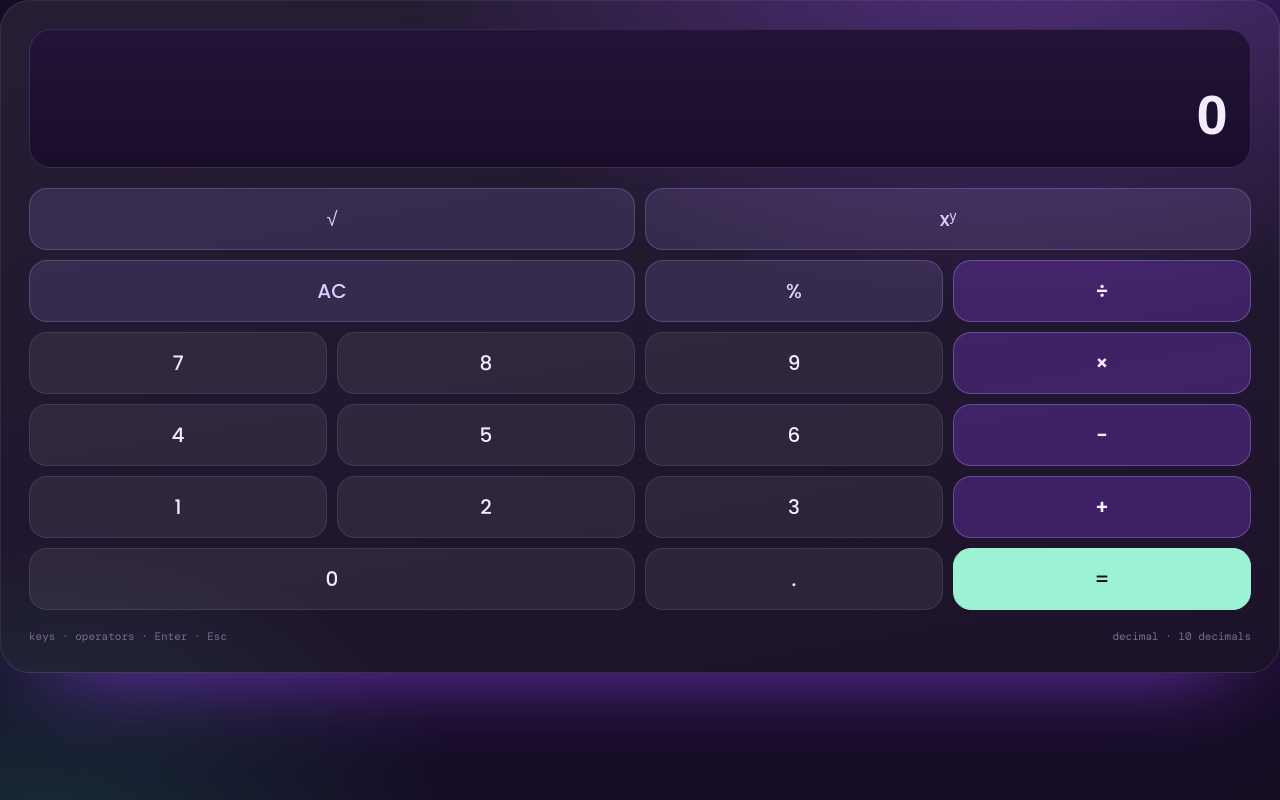
Calculator › 10 ÷ 0 = shows a division-by-zero message
The image size is (1280, 800).
Click the button "1" at (178, 507), box [29,476,327,538]
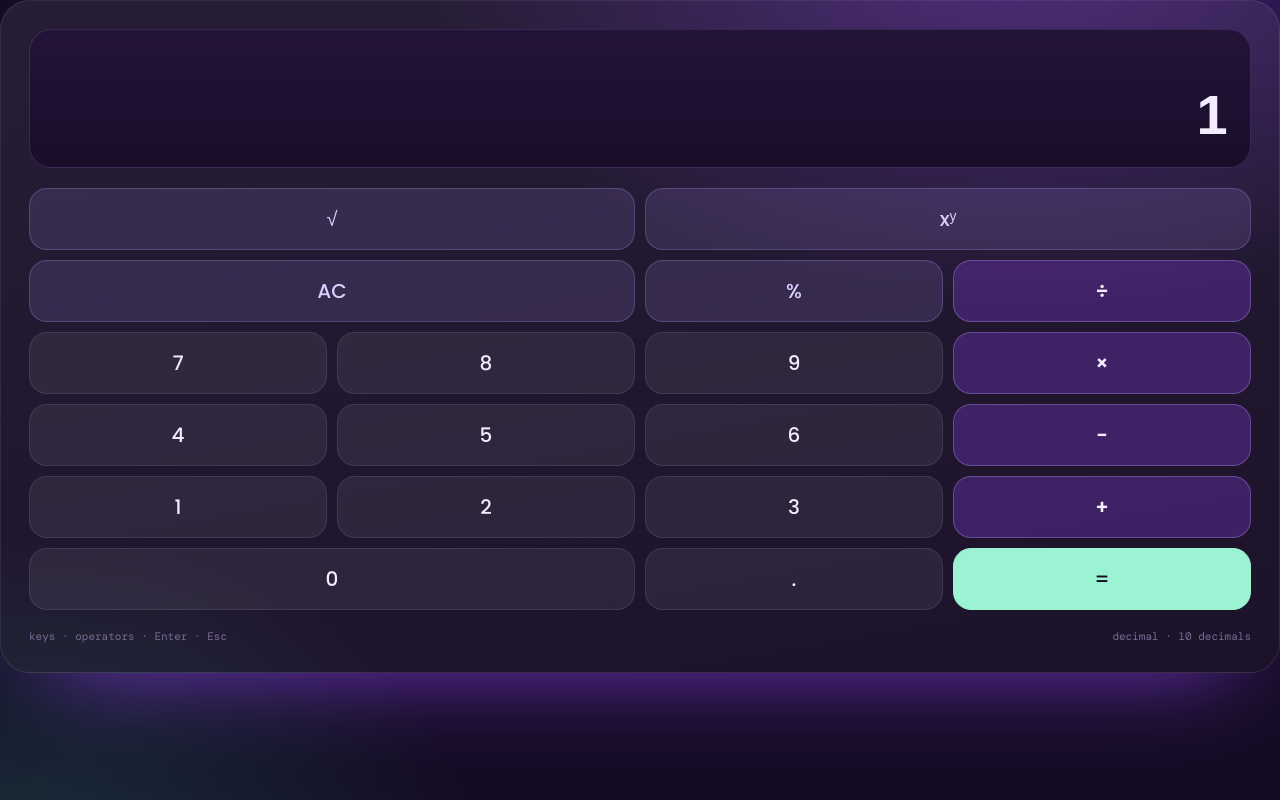
Click the button "0" at (332, 579), box [29,548,635,610]
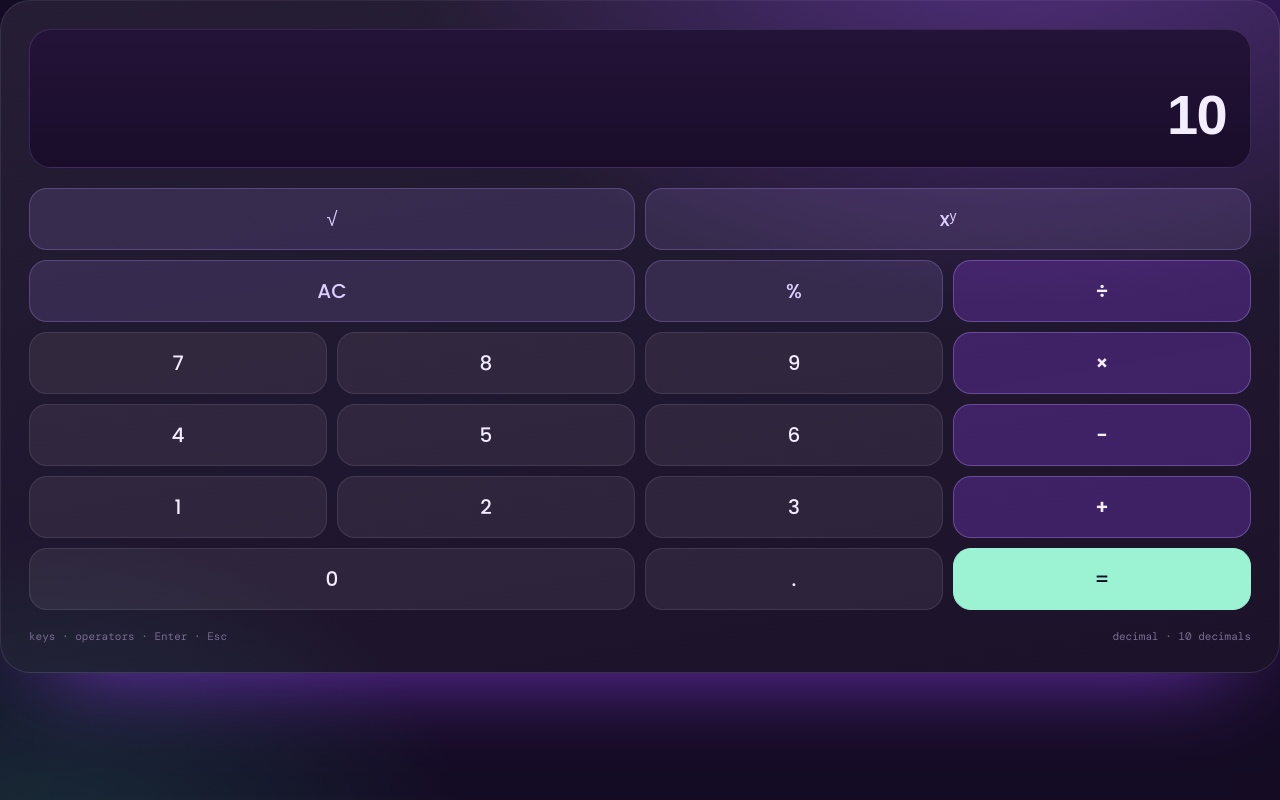
Click the button named "divide" at (1102, 291), box [953,260,1251,322]
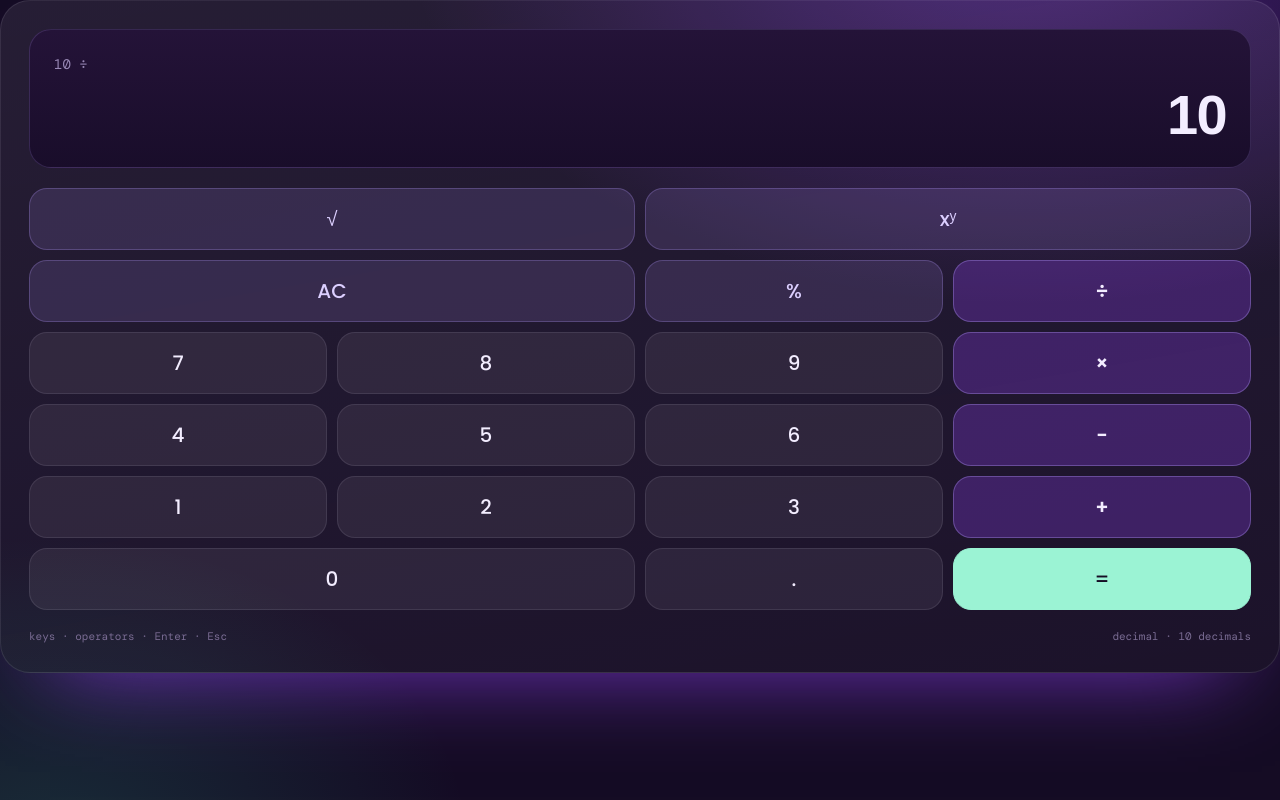
Click the button "0" at (332, 579), box [29,548,635,610]
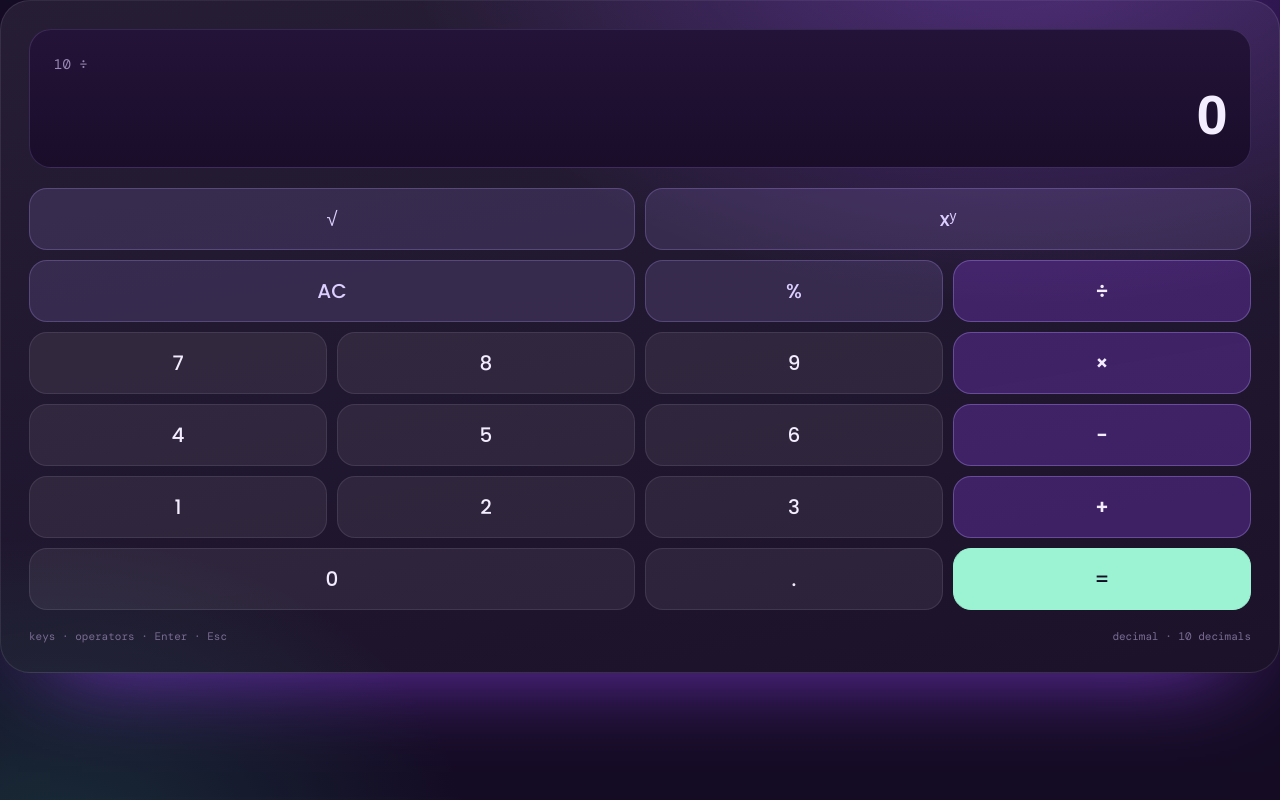
Click the button named "equals" at (1102, 579), box [953,548,1251,610]
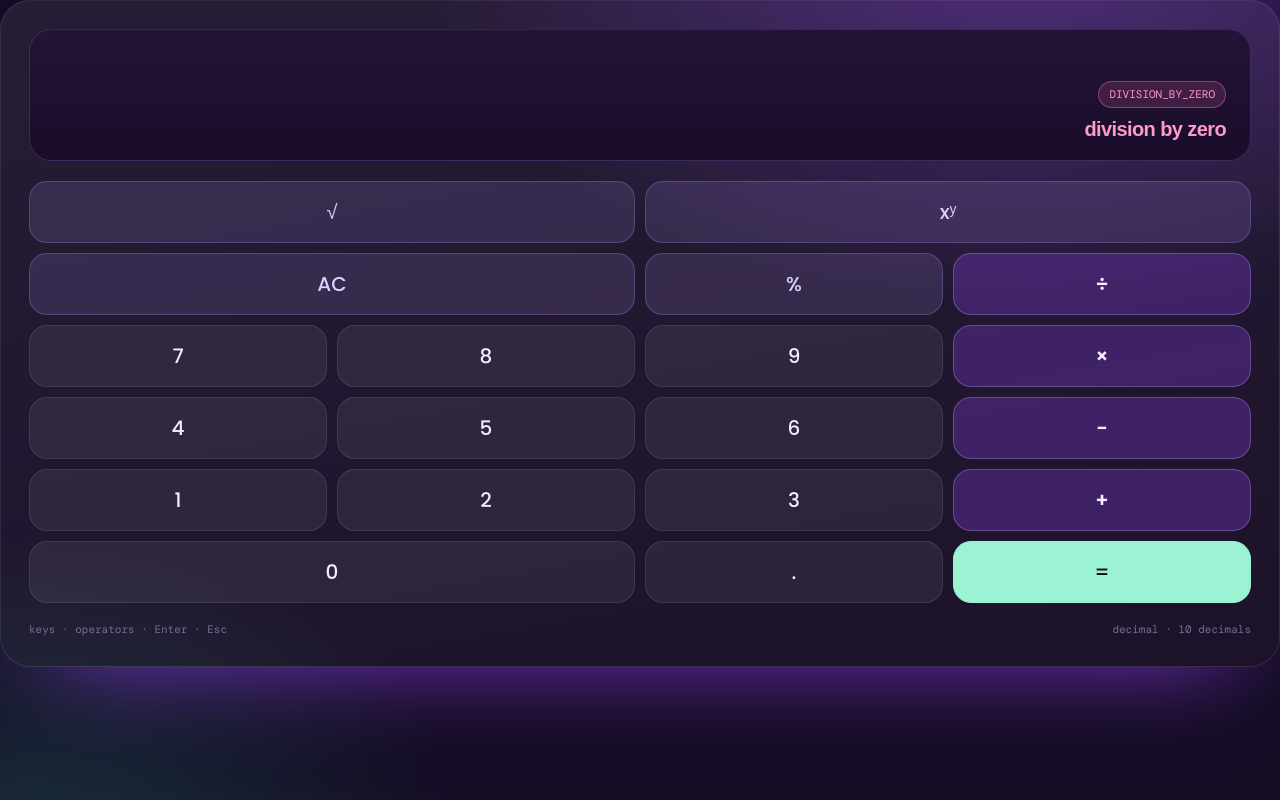
Expected: the message reads "division by zero", [1084,118,1226,140]
